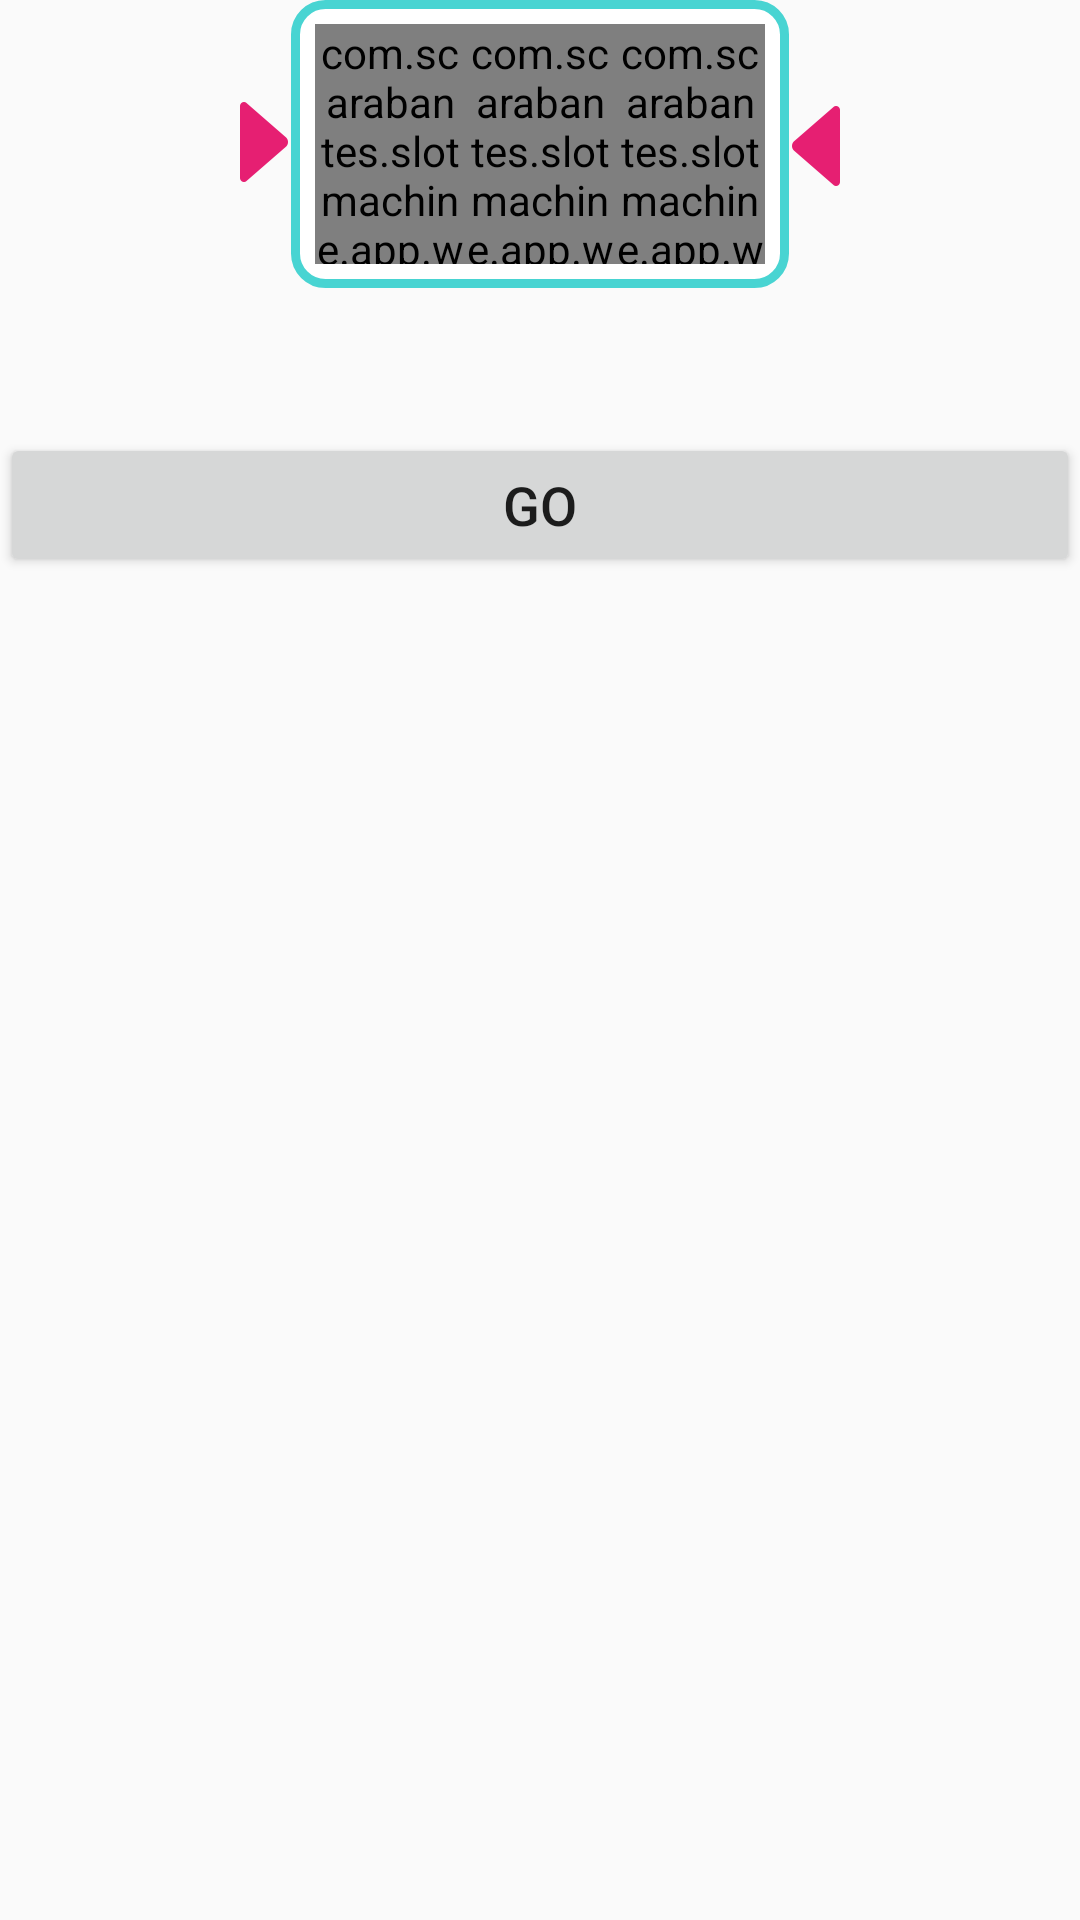

Screen size 1080×1920. Icon name, then its box in pixels as (x1, y1, x2, y2):
arrow left: (792, 106, 840, 186)
arrow right: (240, 102, 288, 182)
